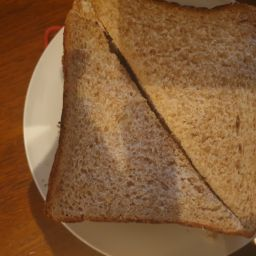Breads: (46, 4, 256, 242)
